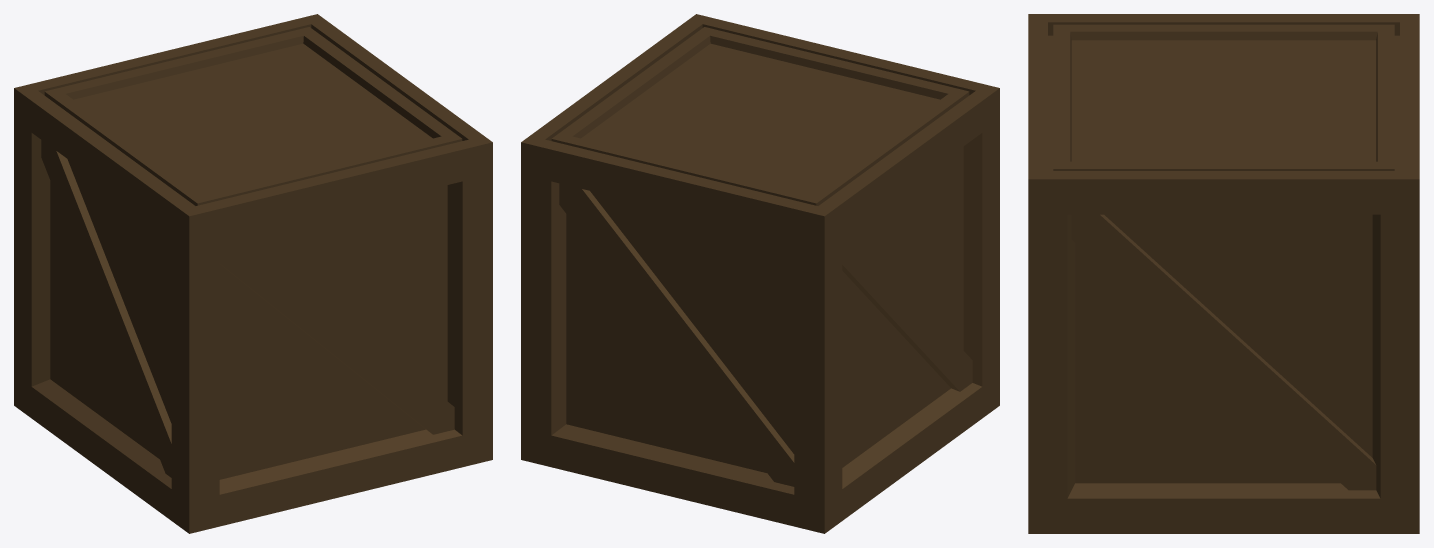
The model's file is crate.fbx.
The picture shows the model from 3 angles, left to right: view 1: azimuth 30°, elevation 25°; view 2: azimuth 150°, elevation 25°; view 3: azimuth 270°, elevation 25°; orthographic projection. The views are drawn at different scales.
Parts seen in each view (by area): view 1: Cube; view 2: Cube; view 3: Cube.
Boxes of the visible parts, bbox=[...] form: Cube: bbox=[14, 14, 492, 533]; Cube: bbox=[521, 14, 999, 533]; Cube: bbox=[1028, 14, 1419, 533].
Size of the model in its own units: 200 by 200 by 200.
